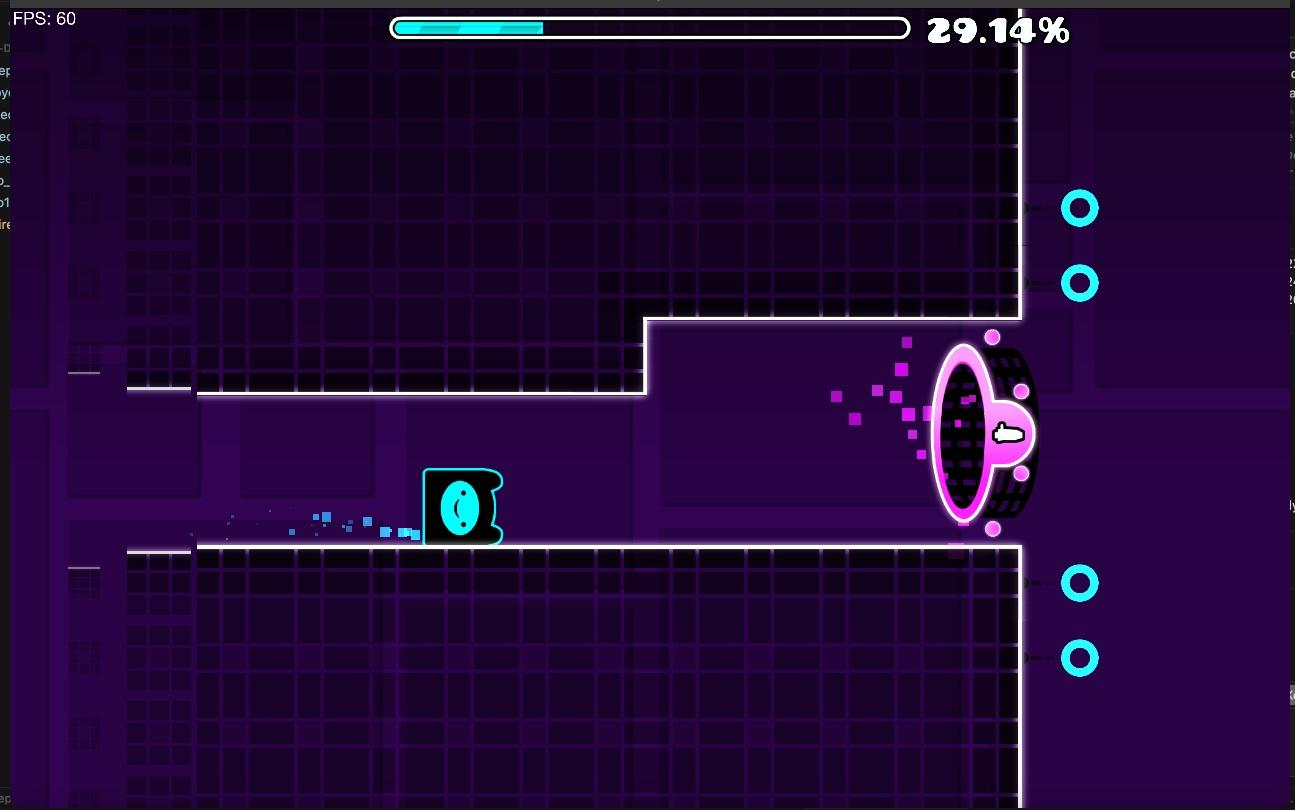block: (126, 554, 1020, 810)
player: (423, 468, 503, 544)
portal: (928, 343, 1037, 522)
